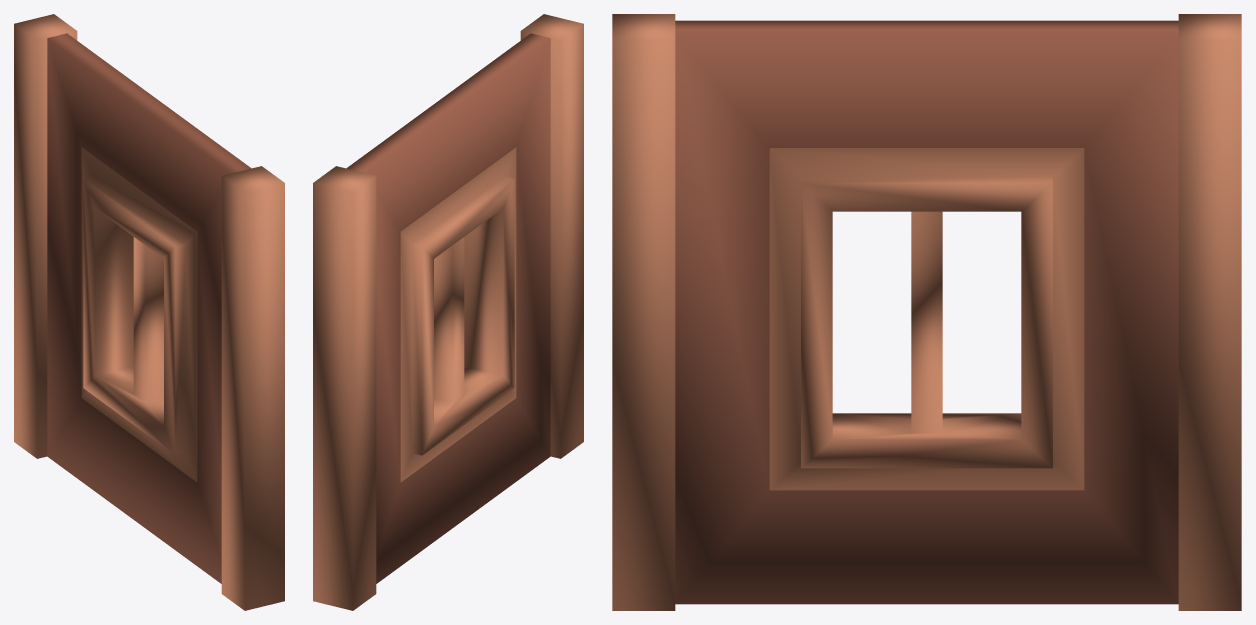
File: wall-wood-window-shutters.glb
The picture shows the model from 3 angles, left to right: view 1: azimuth 30°, elevation 25°; view 2: azimuth 150°, elevation 25°; view 3: azimuth 270°, elevation 25°; orthographic projection. The views are drawn at different scales.
Parts seen in each view (by area): view 1: wall-wood-window-shutters; view 2: wall-wood-window-shutters; view 3: wall-wood-window-shutters.
Part boxes in pixels (box(x1,y1,x2,y2)): wall-wood-window-shutters: box(14, 14, 284, 610); wall-wood-window-shutters: box(313, 14, 583, 610); wall-wood-window-shutters: box(612, 14, 1241, 610).
Bounding box in the file's own units: 0.2 × 2 × 2.
Materials: 1 (1 with a texture image).
